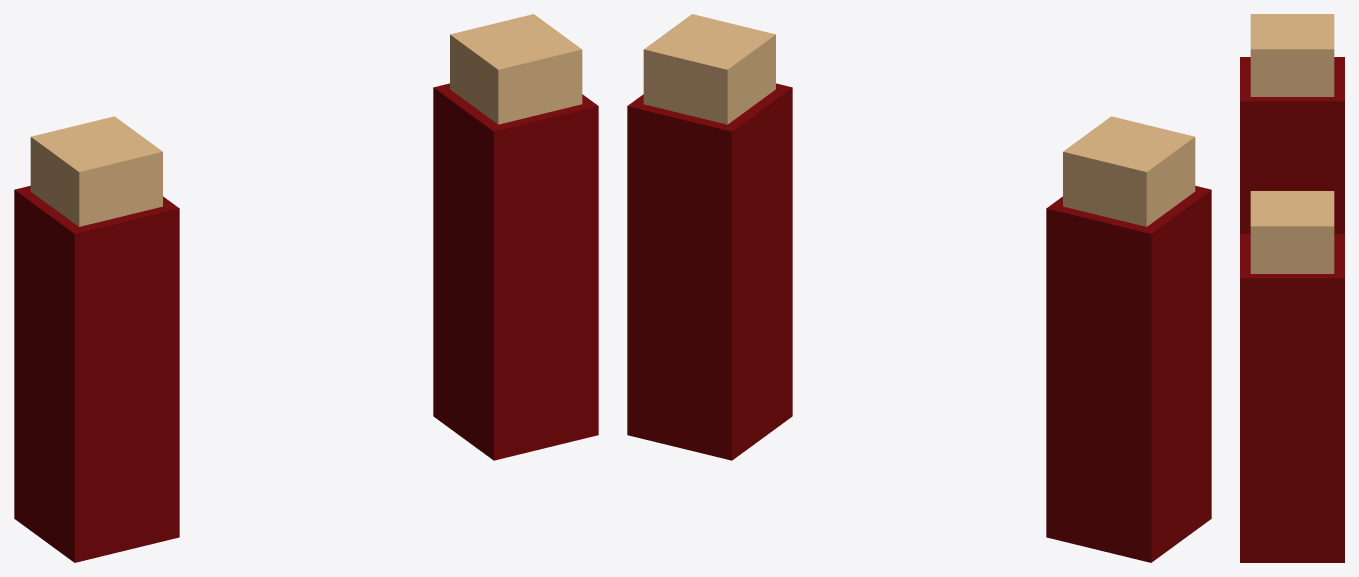
Rendered from arms.fbx.
The picture shows the model from 3 angles, left to right: view 1: azimuth 30°, elevation 25°; view 2: azimuth 150°, elevation 25°; view 3: azimuth 270°, elevation 25°; orthographic projection. The views are drawn at different scales.
Parts seen in each view (by area): view 1: Cube; view 2: Cube; view 3: Cube.
Boxes of the visible parts, x1,y1,x2,y2 form: Cube: (14, 14, 598, 562); Cube: (627, 14, 1211, 562); Cube: (1240, 14, 1344, 562).
Bounding box in the file's own units: 200 × 140 × 40.
